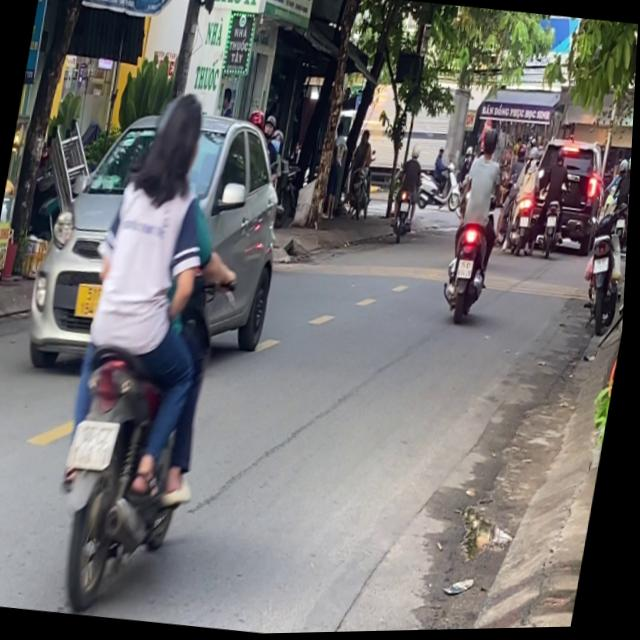helmet: (479, 125, 500, 157)
licenseplate: (32, 75, 268, 619), (437, 121, 516, 324)
motorcyclist: (140, 89, 213, 202)
nohelmet: (69, 416, 123, 471), (457, 258, 475, 279)
